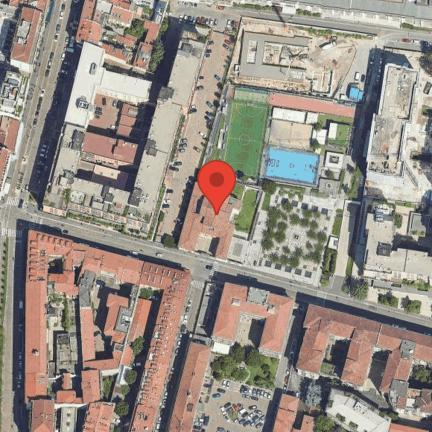area_open: (212, 97, 352, 288), (154, 15, 240, 246), (347, 55, 431, 242), (315, 30, 376, 100), (200, 384, 270, 431), (328, 206, 361, 300), (370, 289, 429, 324), (191, 278, 219, 327)
built: (21, 223, 189, 430), (44, 36, 209, 239), (170, 281, 296, 428), (294, 307, 432, 414), (232, 19, 353, 116), (1, 6, 50, 188), (370, 66, 420, 177), (366, 202, 429, 290), (77, 4, 163, 68), (236, 6, 430, 33), (180, 182, 244, 260), (328, 393, 426, 432), (269, 393, 316, 428)
vegetation_high: (213, 344, 279, 386)
